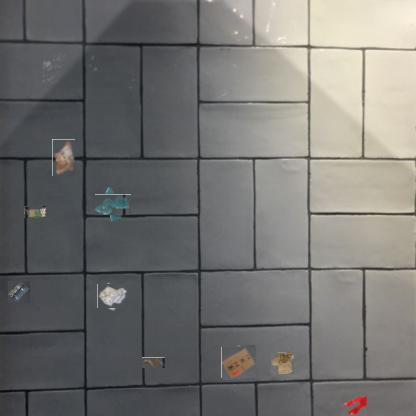dirty: (222, 346, 256, 379), (52, 139, 75, 176), (99, 283, 127, 310), (270, 352, 294, 374), (8, 281, 30, 303), (141, 357, 165, 368), (24, 206, 46, 218)
liquid: (99, 191, 128, 219), (341, 394, 367, 416)
